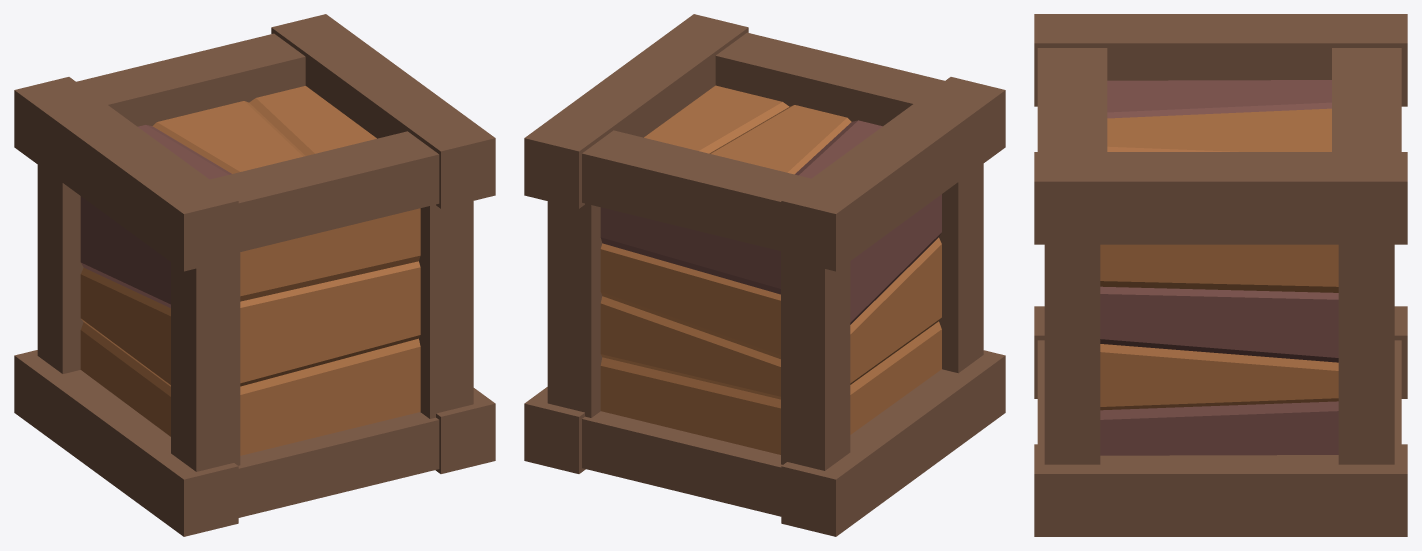
The model's file is Crate_Large.fbx.
3 renders of one model, left to right at view 1: azimuth 30°, elevation 25°; view 2: azimuth 150°, elevation 25°; view 3: azimuth 270°, elevation 25°, orthographic. The views are drawn at different scales.
Parts seen in each view (by area): view 1: Crate_Large; view 2: Crate_Large; view 3: Crate_Large.
Boxes of the visible parts, x1=… form: Crate_Large: x1=14, y1=14, x2=495, y2=536; Crate_Large: x1=524, y1=14, x2=1005, y2=536; Crate_Large: x1=1034, y1=14, x2=1407, y2=536.
Size of the model in its own units: 0.8008 by 0.7547 by 0.7924.
